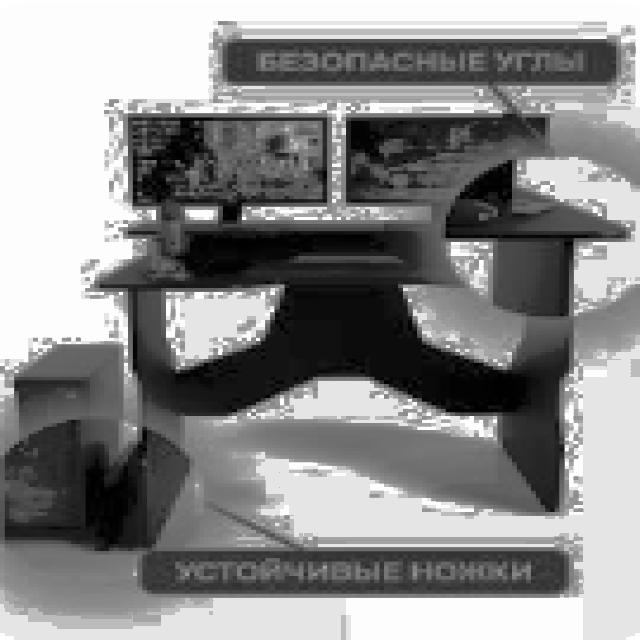table: (90, 182, 626, 548)
